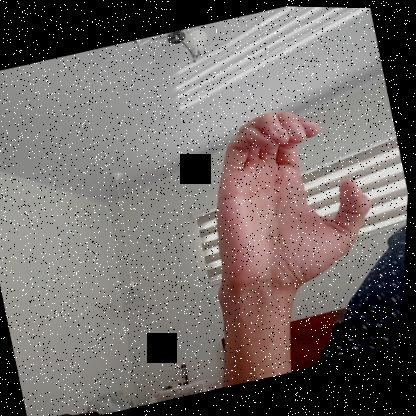C: (182, 89, 394, 303)
